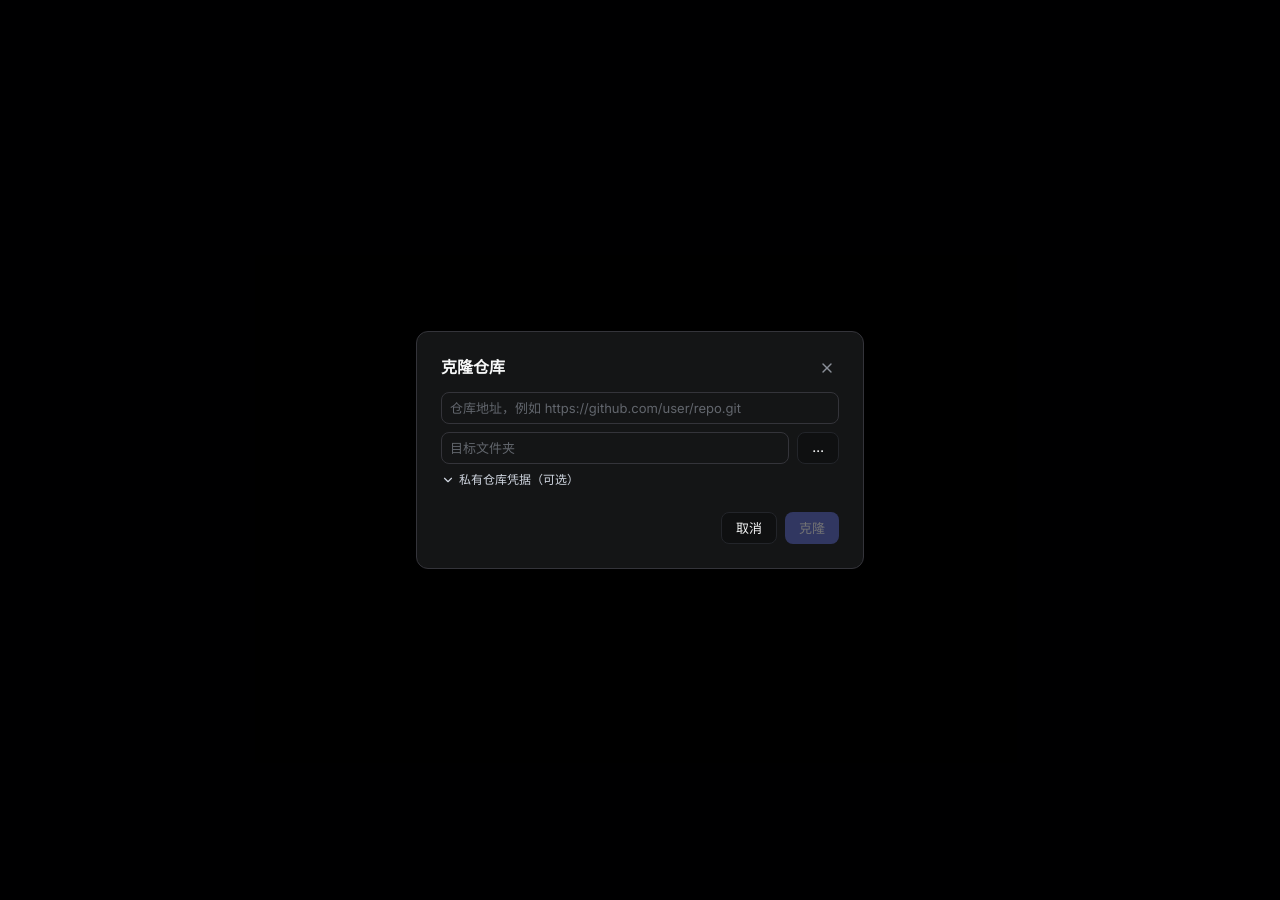
Test: CloneDialog failure surfacing (rc.2 真人反馈) › surfaces the network detail and reason from the structured error
In the field with test id "clone-url-input": (640,408) 441,392 -> 839,424, type "http://example.com/demo.git"
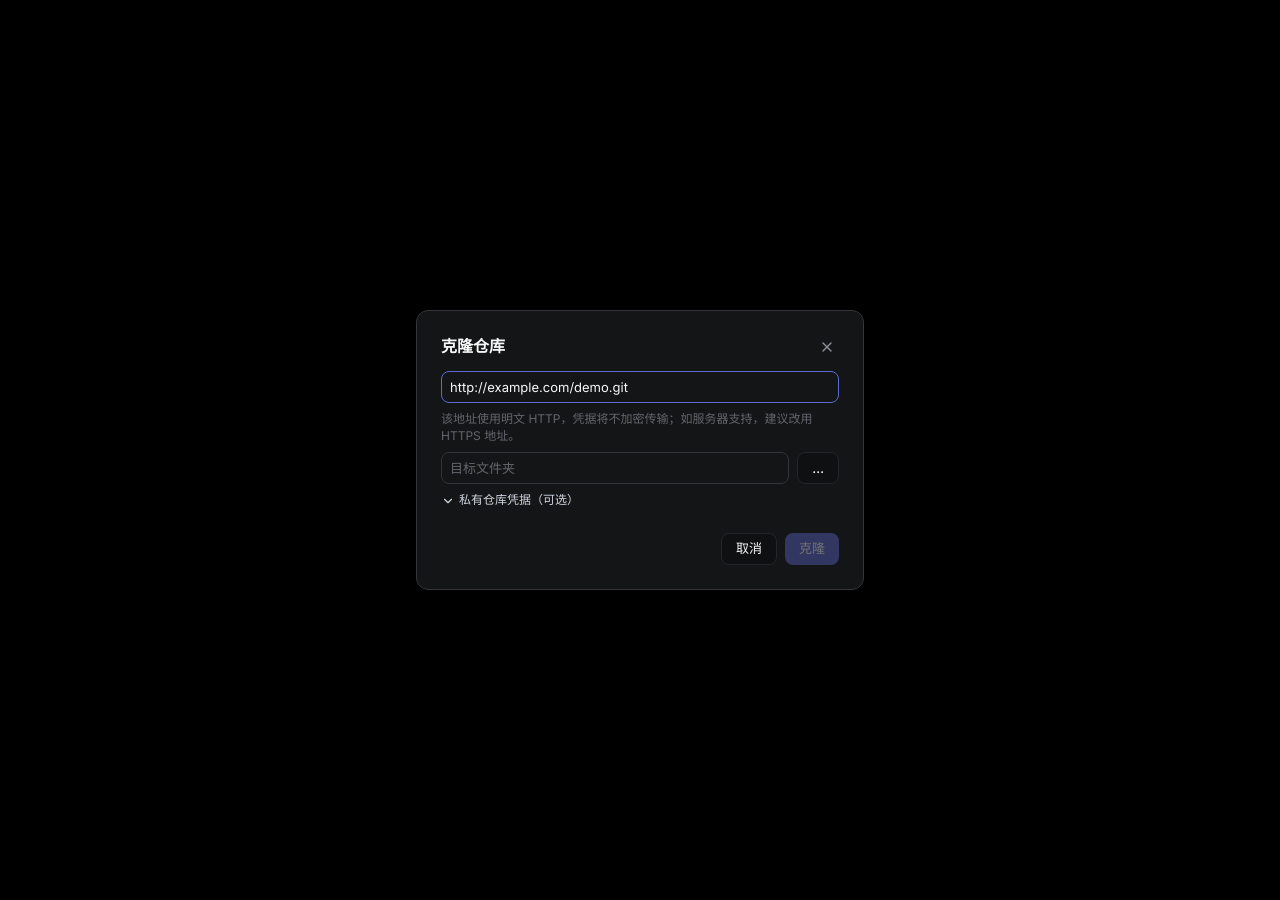
In the field with test id "clone-path-input": (615,468) 441,452 -> 789,484, type "C:/tmp/demo"
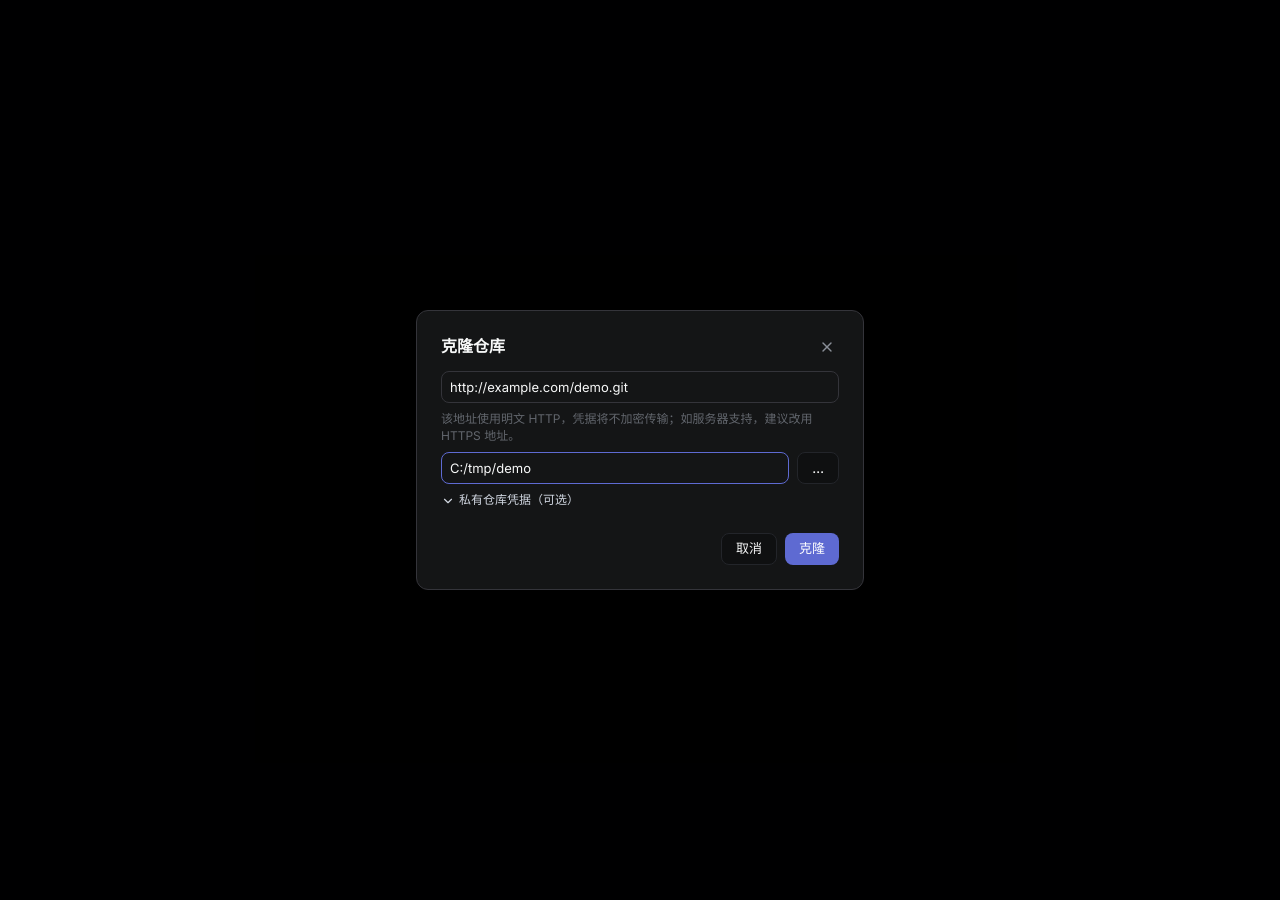
Click the button with test id "clone-confirm": (812,549) 785,533 -> 839,565
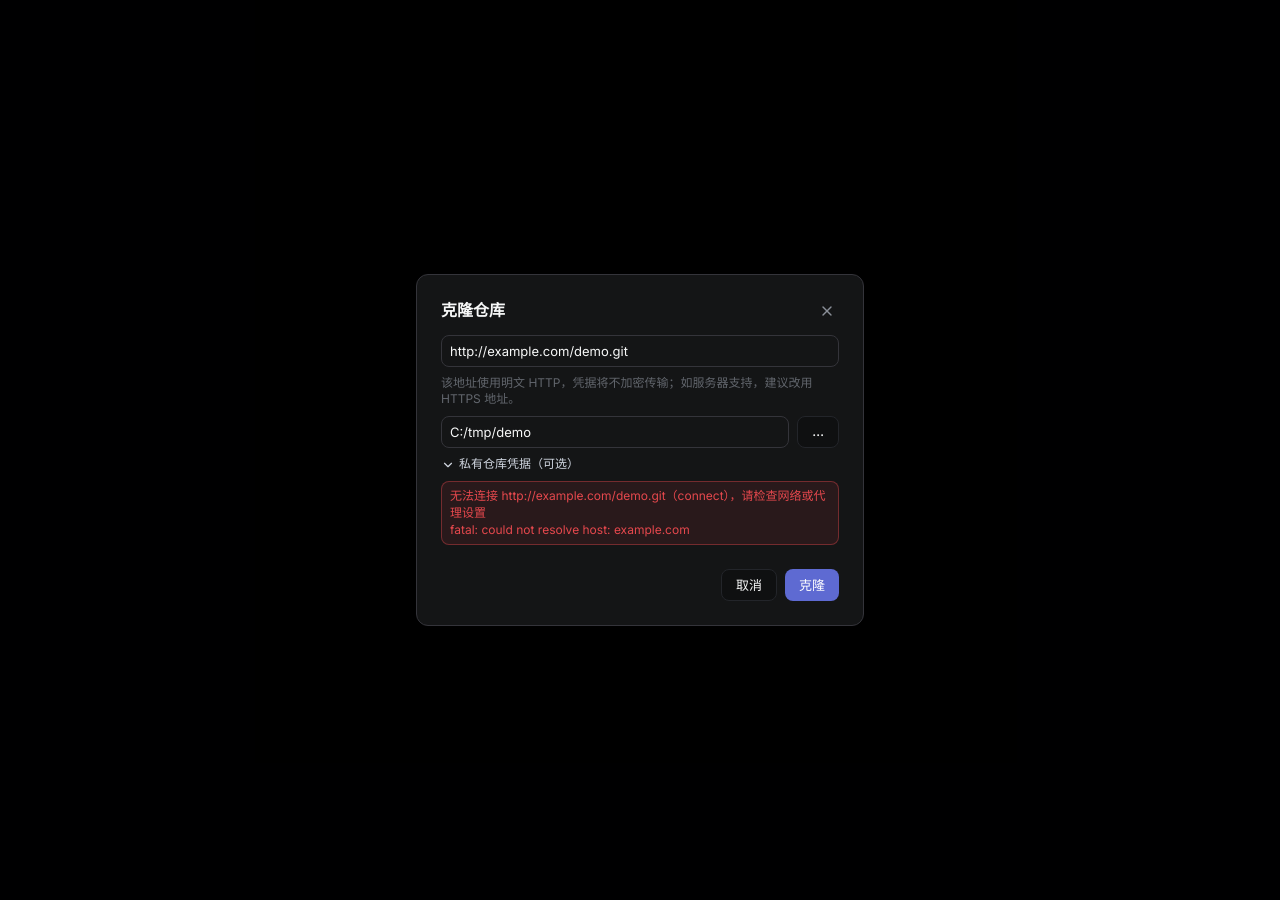
Now the message with test id "clone-error" shows "无法连接 http://example.com/demo.git", box 450,488 -> 826,537
Now the message with test id "clone-error" shows "could not resolve host", box 450,488 -> 826,537
